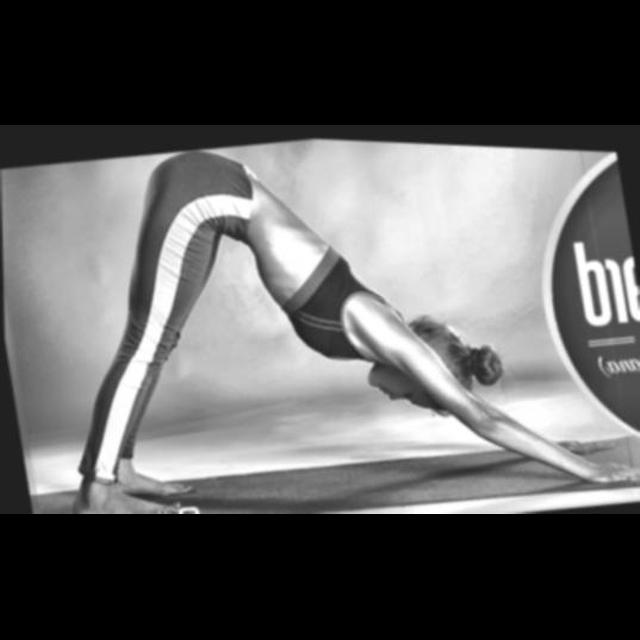Downward-Facing_Dog: (70, 139, 640, 514)
